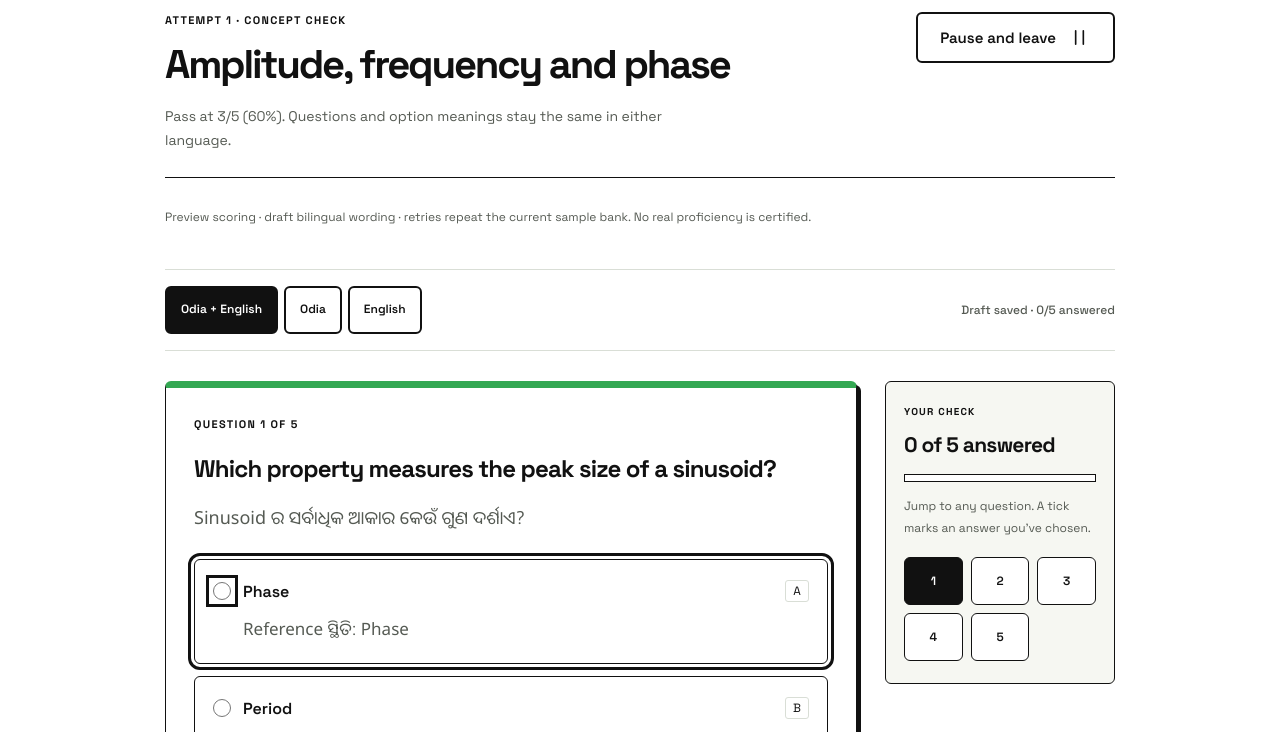
Test case: does not steal focus from another control when an answer save finishes
Click the radio button labelled "Phase Reference ସ୍ଥିତି: Phase A": [222, 591] box [213,582,231,600]
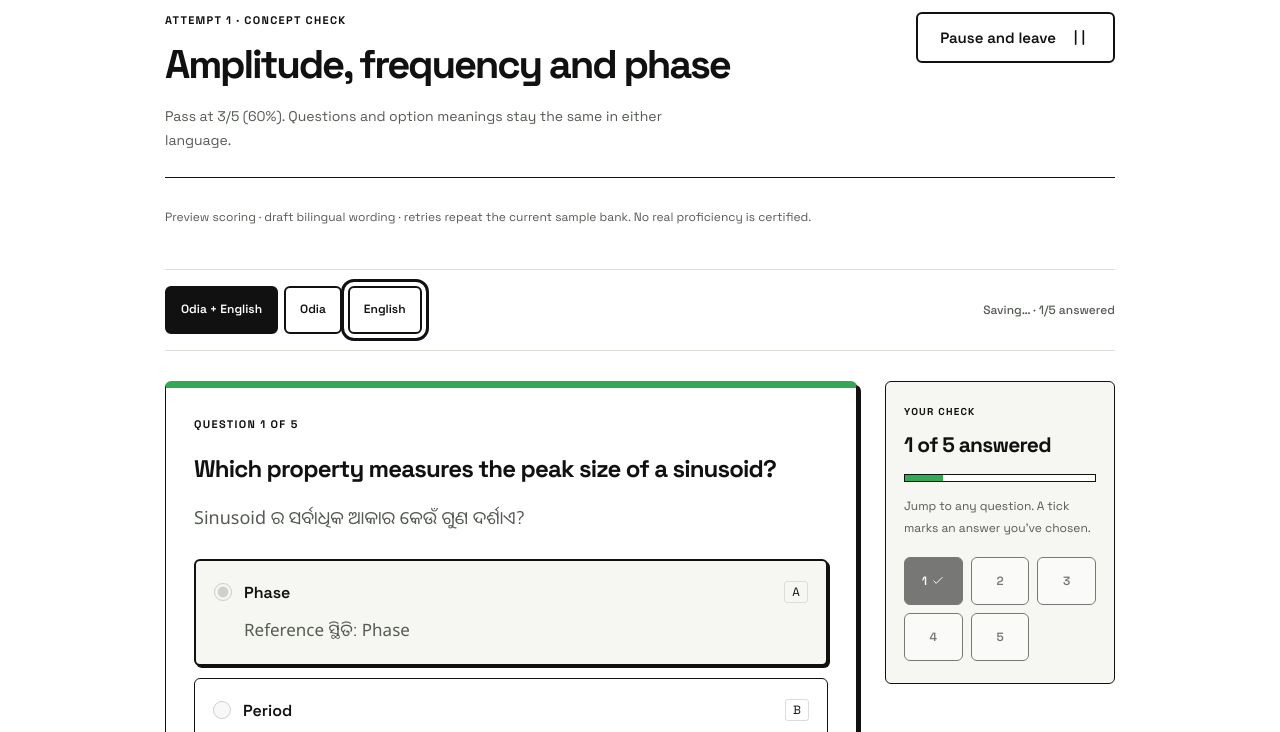
Click the button "English": [385, 310] box [348,286,422,334]
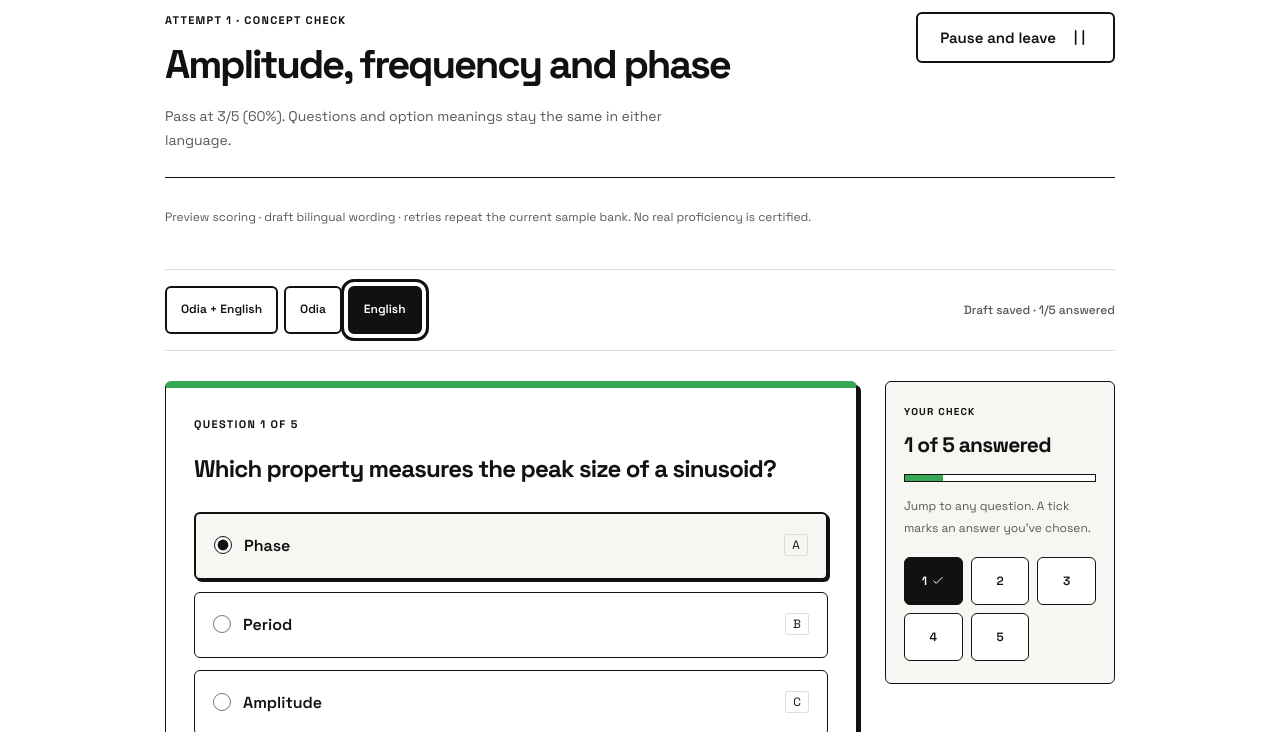
Result: the text "Draft saved · 1/5 answered" is shown at [964,300,1115,320]
